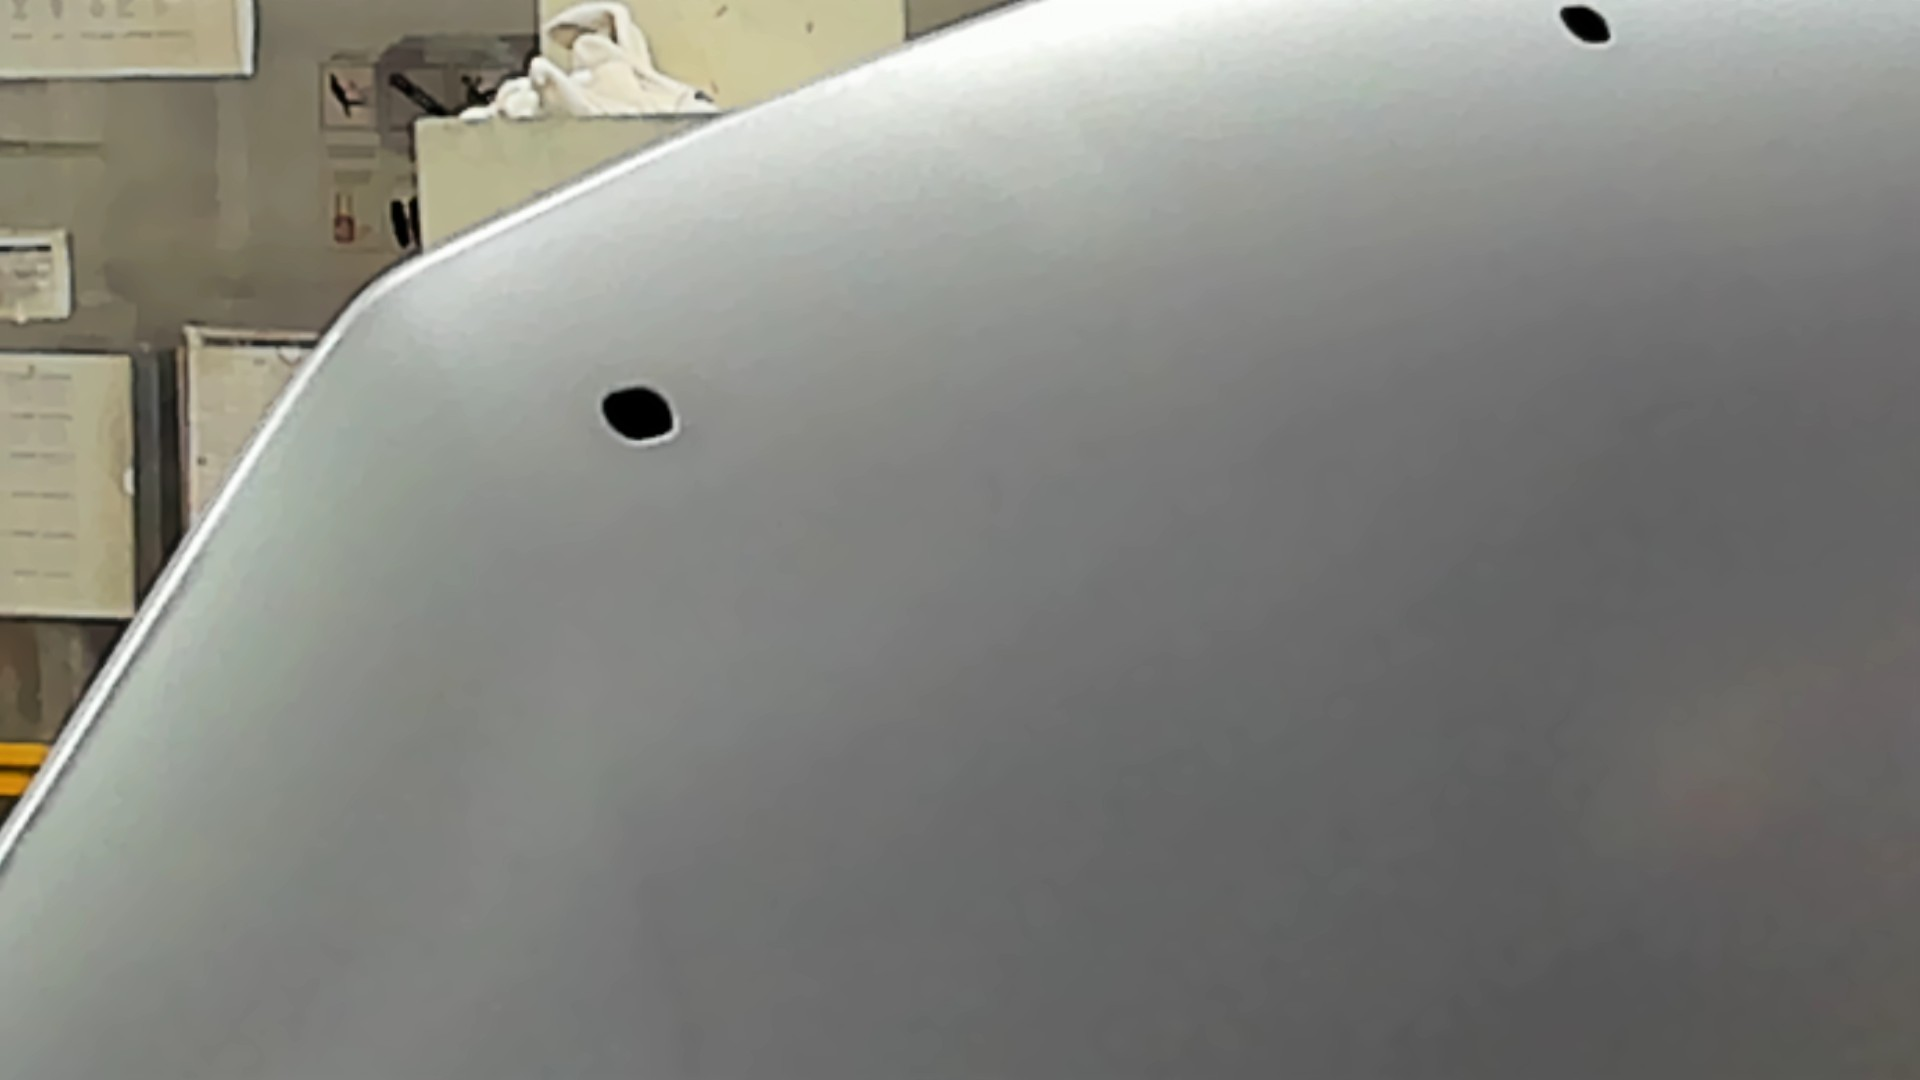amorfo: (587, 378, 688, 451), (1545, 1, 1619, 53)
